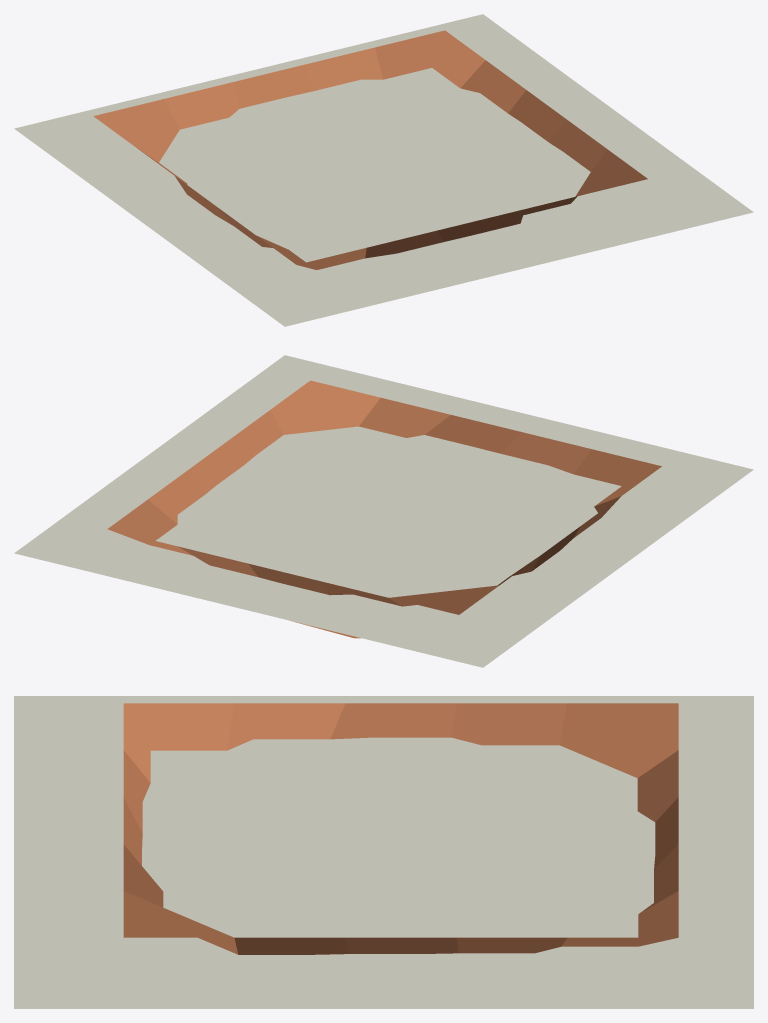
Rendered from PUDDLE_2.fbx.
The picture shows the model from 3 angles, top to bottom: view 1: azimuth 30°, elevation 25°; view 2: azimuth 150°, elevation 25°; view 3: azimuth 270°, elevation 25°; orthographic projection. The views are drawn at different scales.
Visible parts, largest first — view 1: Plane.001; view 2: Plane.001; view 3: Plane.001.
Part boxes in pixels (<box>): Plane.001: <box>14,14,753,326</box>; Plane.001: <box>14,355,753,667</box>; Plane.001: <box>14,696,753,1008</box>.
Bounding box in the file's own units: 200 × 27.56 × 200.
Materials: 1 (1 with a texture image).
